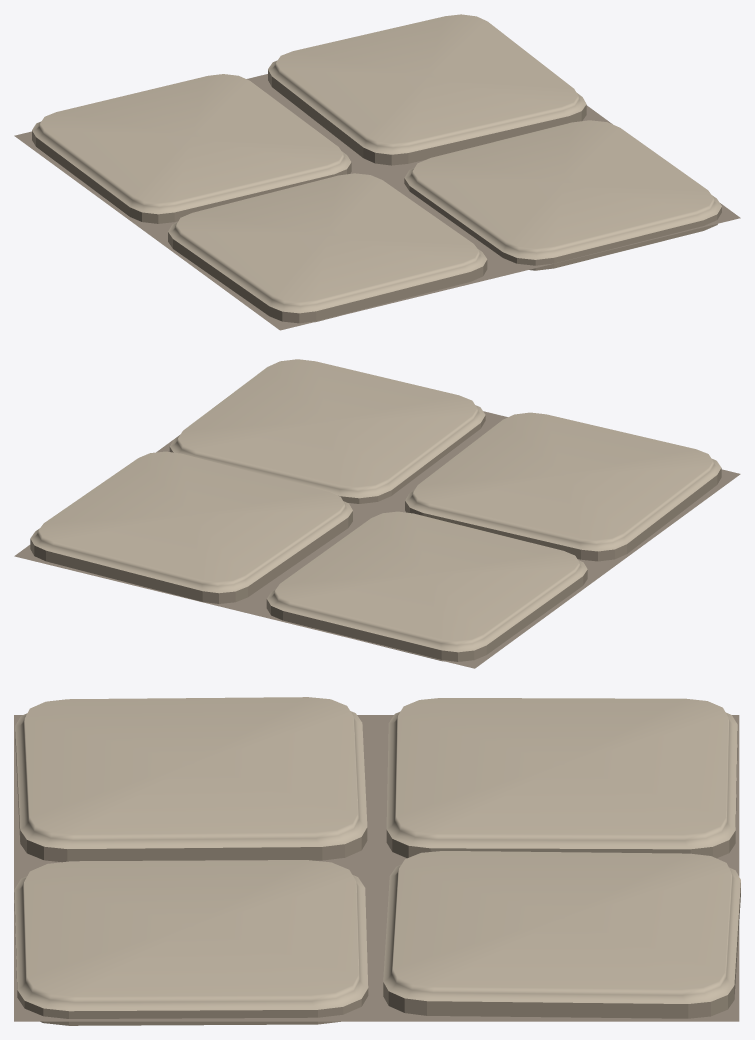
File: master_soft_pavers_01.glb
3 views of the same model, one above another, from view 1: azimuth 30°, elevation 25°; view 2: azimuth 150°, elevation 25°; view 3: azimuth 270°, elevation 25° (orthographic). The views are drawn at different scales.
Visible parts, largest first — view 1: master_soft_pavers_01; view 2: master_soft_pavers_01; view 3: master_soft_pavers_01.
Part boxes in pixels (<box>): master_soft_pavers_01: <box>14,14,740,330</box>; master_soft_pavers_01: <box>14,359,740,668</box>; master_soft_pavers_01: <box>14,697,740,1025</box>.
Size of the model in its own units: 1.35 by 0.0733 by 1.35.
